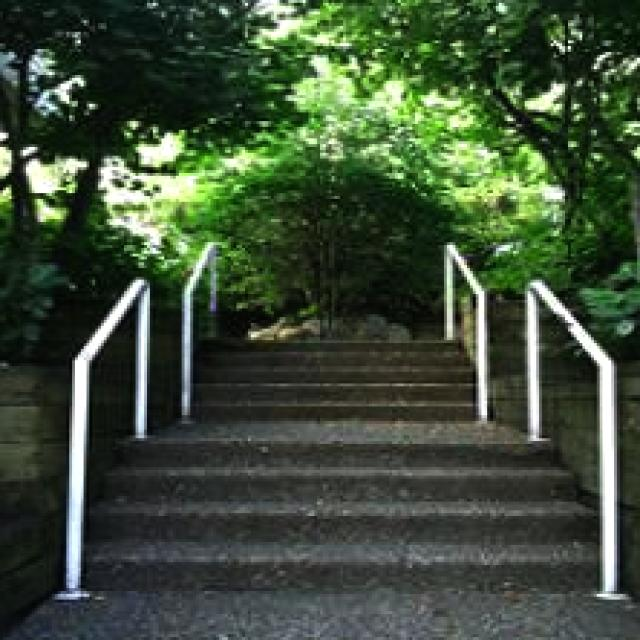upstair: (110, 339, 618, 581)
